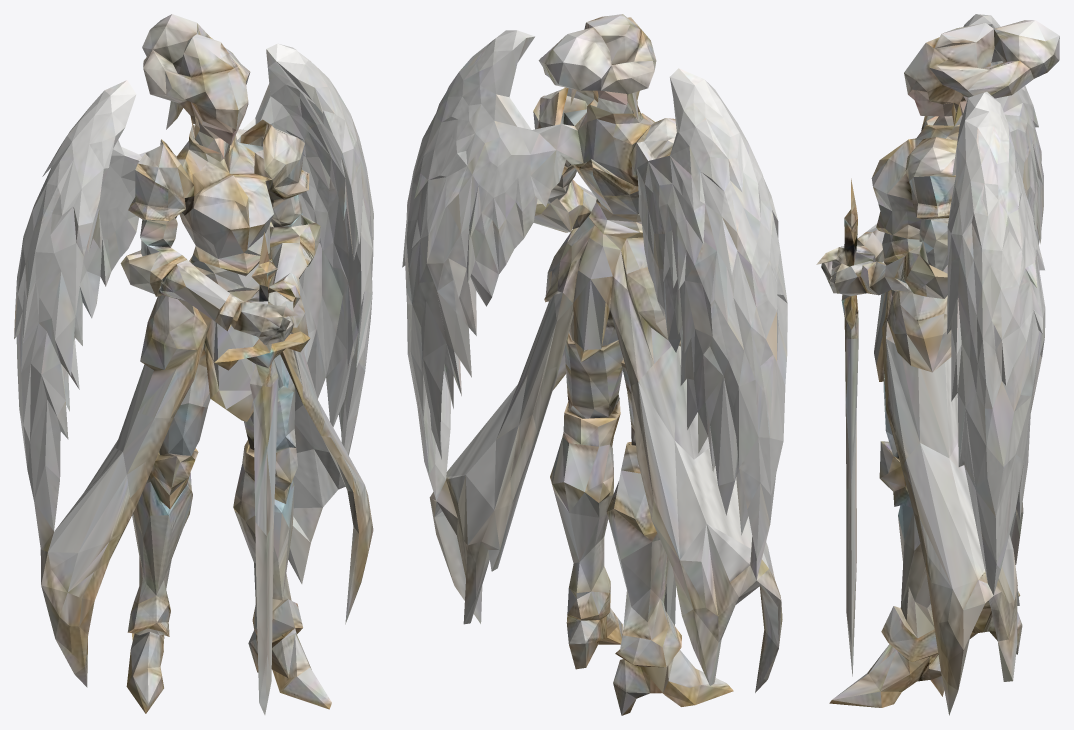
File: seraphielle.glb
3 renders of one model, left to right at view 1: azimuth 30°, elevation 25°; view 2: azimuth 150°, elevation 25°; view 3: azimuth 270°, elevation 25°, orthographic. The views are drawn at different scales.
Parts seen in each view (by area): view 1: avatar; view 2: avatar; view 3: avatar.
Boxes of the visible parts, <box> form: avatar: <box>14,14,373,714</box>; avatar: <box>402,14,787,715</box>; avatar: <box>816,14,1059,715</box>.
Size of the model in its own units: 0.5754 by 1 by 0.3366.
1 material, 1 textured.
